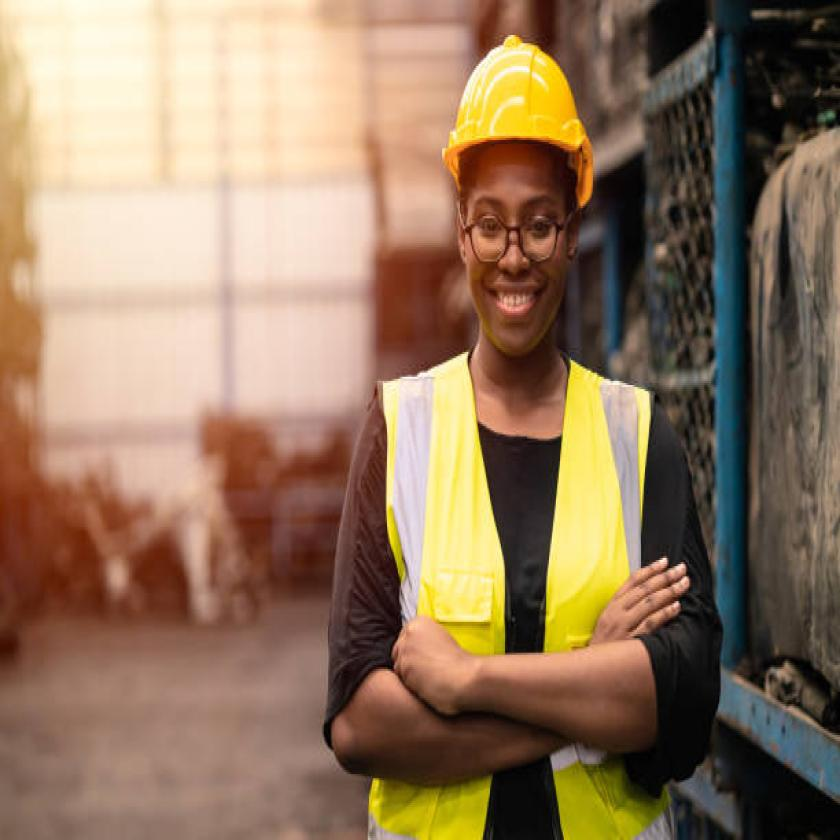Con_casco: (435, 32, 603, 383)
